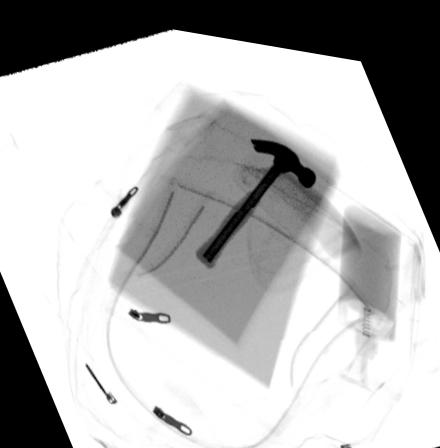Hammer: (196, 128, 319, 261)
